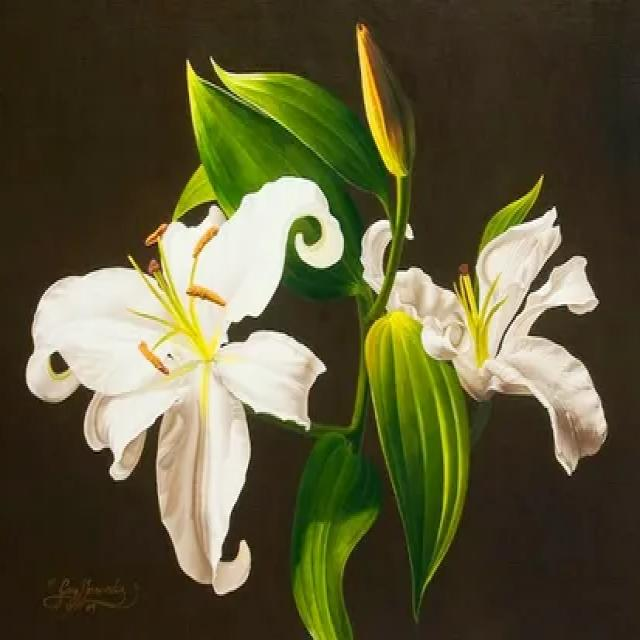lily: (20, 166, 358, 614)
